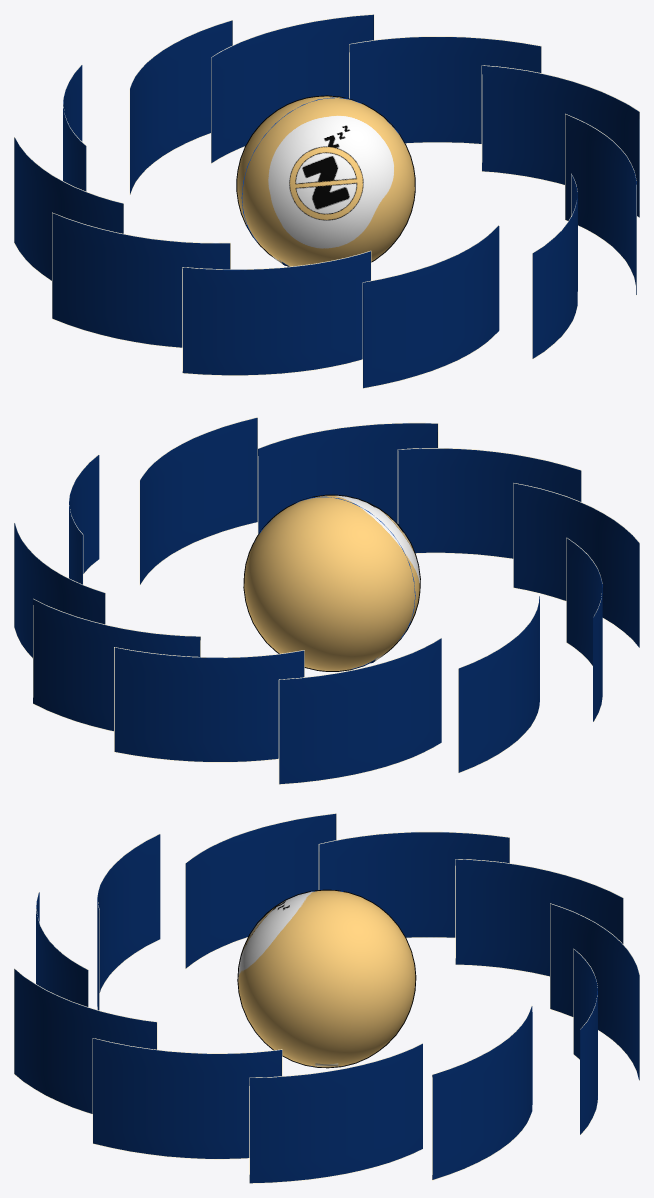
Rendered from AssetsPhoneScene.glb.
3 renders of one model, top to bottom at view 1: azimuth 30°, elevation 25°; view 2: azimuth 150°, elevation 25°; view 3: azimuth 270°, elevation 25°, orthographic.
Visible parts, largest first — view 1: BEND_PLANES, BALLZ; view 2: BEND_PLANES, BALLZ; view 3: BEND_PLANES, BALLZ.
Part boxes in pixels (x1,y1,x2,y2): BEND_PLANES: (14, 14, 639, 388); BALLZ: (236, 95, 415, 266); BEND_PLANES: (14, 417, 639, 784); BALLZ: (243, 494, 420, 671); BEND_PLANES: (14, 813, 639, 1183); BALLZ: (237, 889, 416, 1068).
Size of the model in its own units: 10.76 by 3.07 by 10.75.
7 materials, 1 textured.
